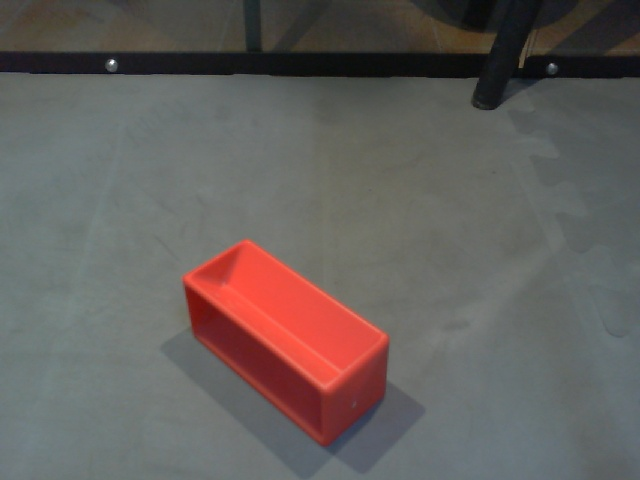RedSample: (181, 234, 392, 451)
